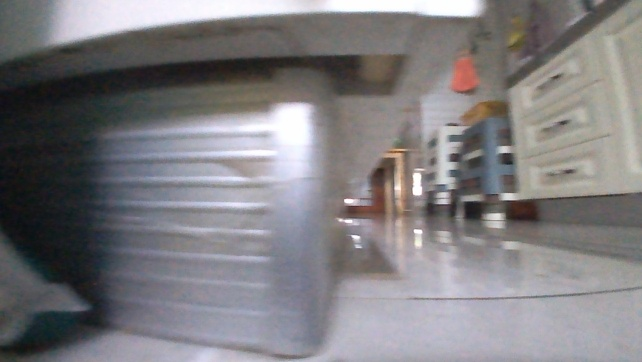cupboard: (500, 0, 641, 224)
